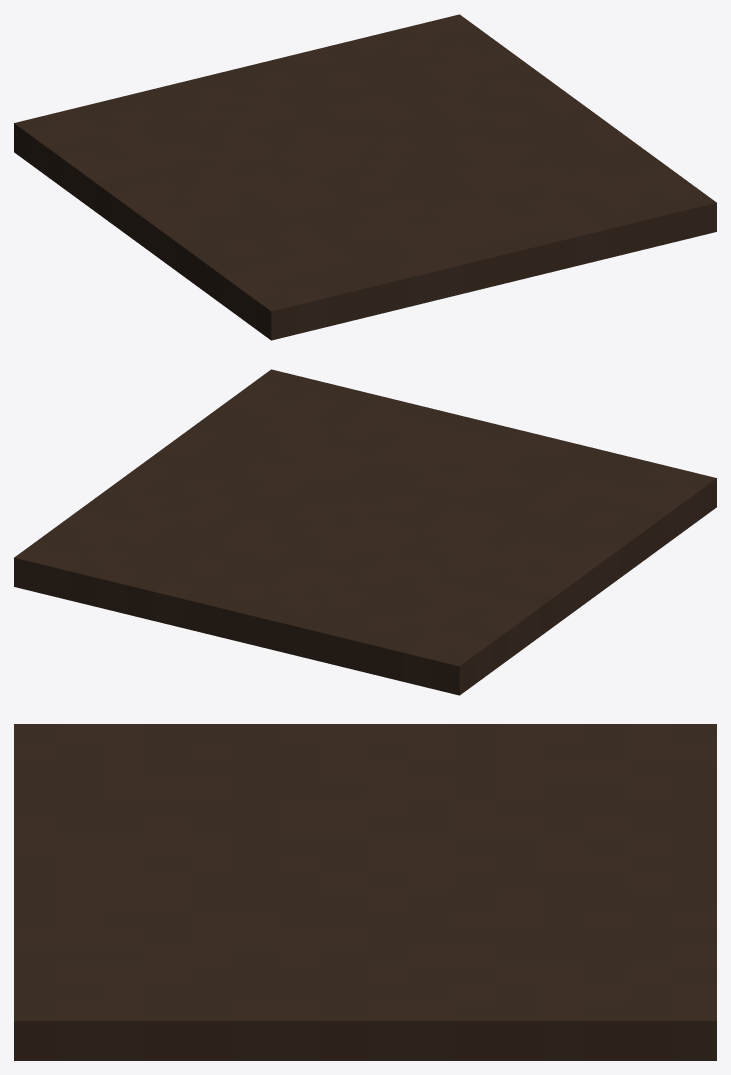
The model's file is farm-54-floor_dirt.obj.
3 renders of one model, top to bottom at view 1: azimuth 30°, elevation 25°; view 2: azimuth 150°, elevation 25°; view 3: azimuth 270°, elevation 25°, orthographic. The views are drawn at different scales.
Parts seen in each view (by area): view 1: floor_dirt; view 2: floor_dirt; view 3: floor_dirt.
Boxes of the visible parts, box(x1,y1,x2,y2) form: floor_dirt: box(14, 14, 716, 340); floor_dirt: box(14, 369, 716, 695); floor_dirt: box(14, 724, 716, 1060).
Bounding box in the file's own units: 1.6 × 0.1 × 1.6.
Materials: 1 (1 with a texture image).
